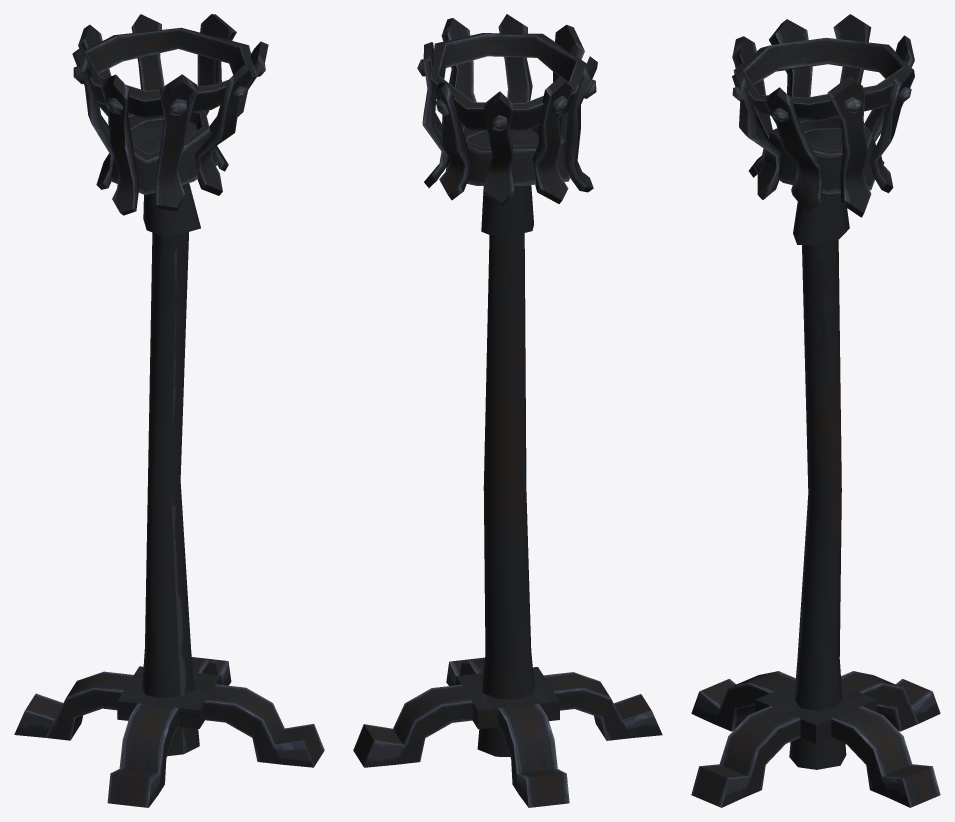
File: SM_PROP_torch_standing_battle_01.fbx
3 renders of one model, left to right at view 1: azimuth 30°, elevation 25°; view 2: azimuth 150°, elevation 25°; view 3: azimuth 270°, elevation 25°, orthographic.
Parts seen in each view (by area): view 1: SM_PROP_torch_standing_battle_01; view 2: SM_PROP_torch_standing_battle_01; view 3: SM_PROP_torch_standing_battle_01.
Boxes of the visible parts, x1,y1,x2,y2 form: SM_PROP_torch_standing_battle_01: (14, 14, 324, 807); SM_PROP_torch_standing_battle_01: (353, 14, 662, 807); SM_PROP_torch_standing_battle_01: (691, 14, 940, 807).
Bounding box in the file's own units: 53.69 × 166 × 52.86.
